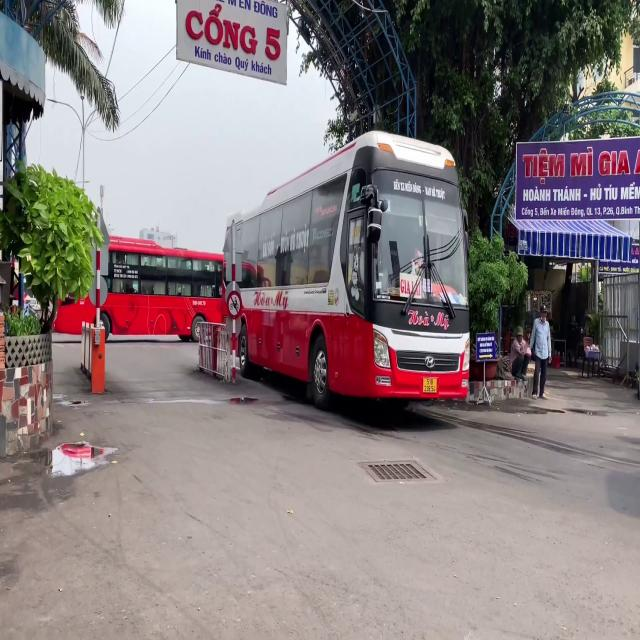bien_vang: (423, 377, 437, 393)
